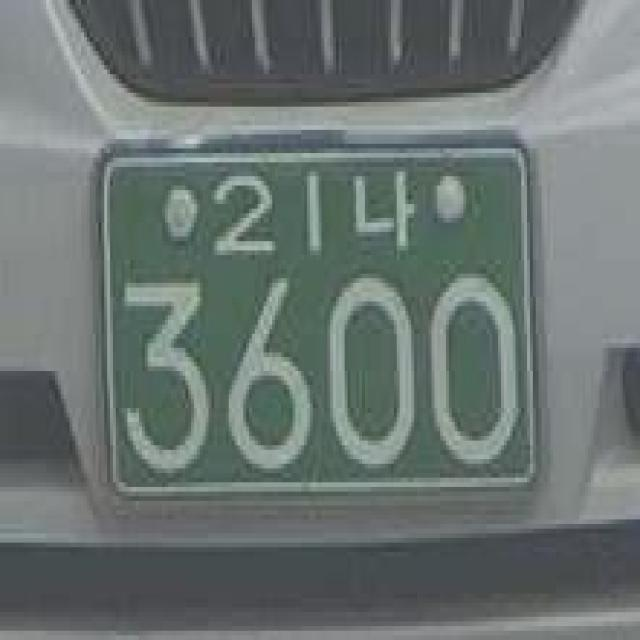illegal_plate: (81, 114, 559, 551)
